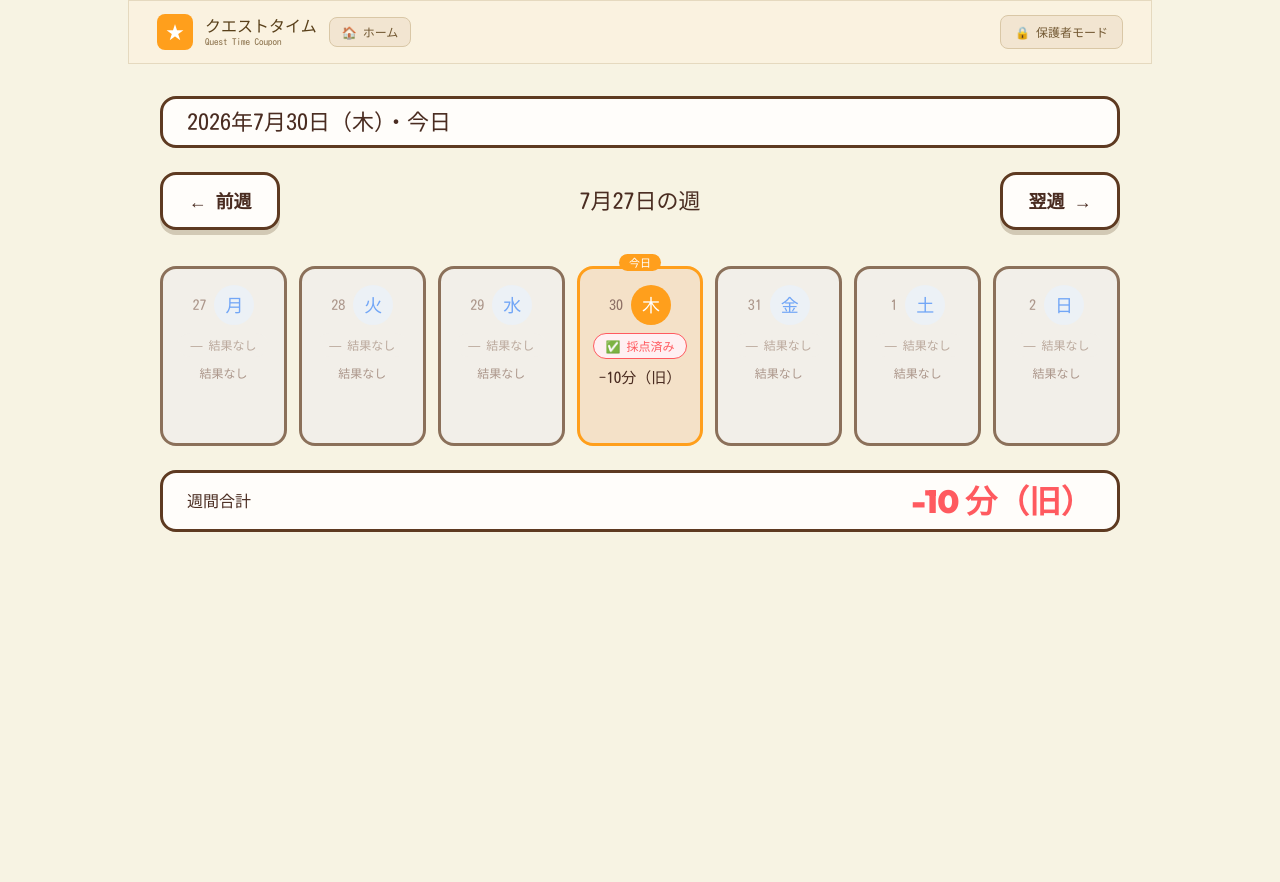
Test case: ResultsPage reasonCode › 設問ごとに自己採点と保護者判定を表示し、不一致を強調する
Click the button with test id "results-day-2026-07-30" at (640, 356), box left=577, top=266, right=704, bottom=446
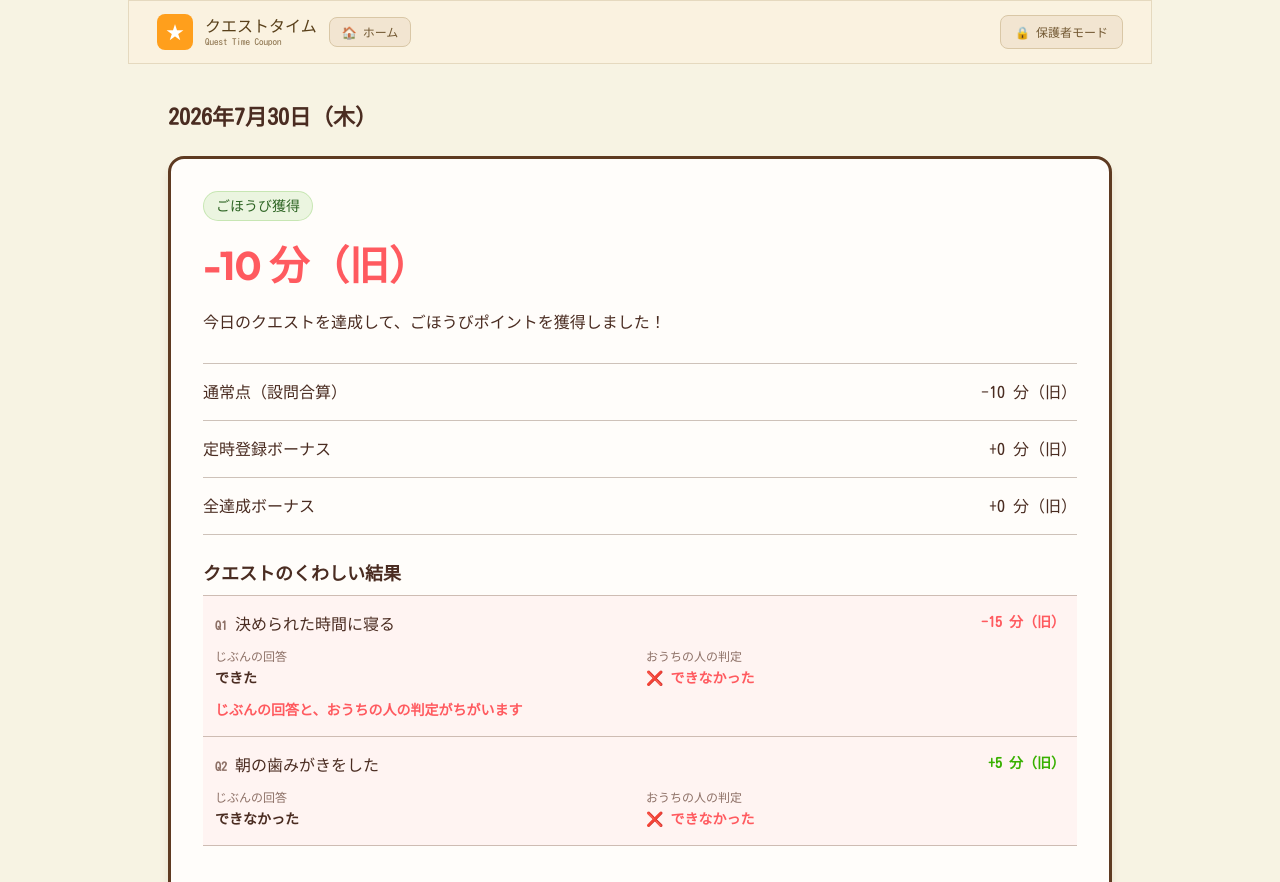
Expected: the heading "クエストのくわしい結果" is shown, left=203, top=564, right=401, bottom=582
Expected: the list item with test id "results-quest-detail-sleep-on-time" shows "決められた時間に寝る", left=235, top=616, right=395, bottom=632
Expected: the list item with test id "results-quest-detail-sleep-on-time" shows "-15 分（旧）", left=203, top=594, right=1077, bottom=736
